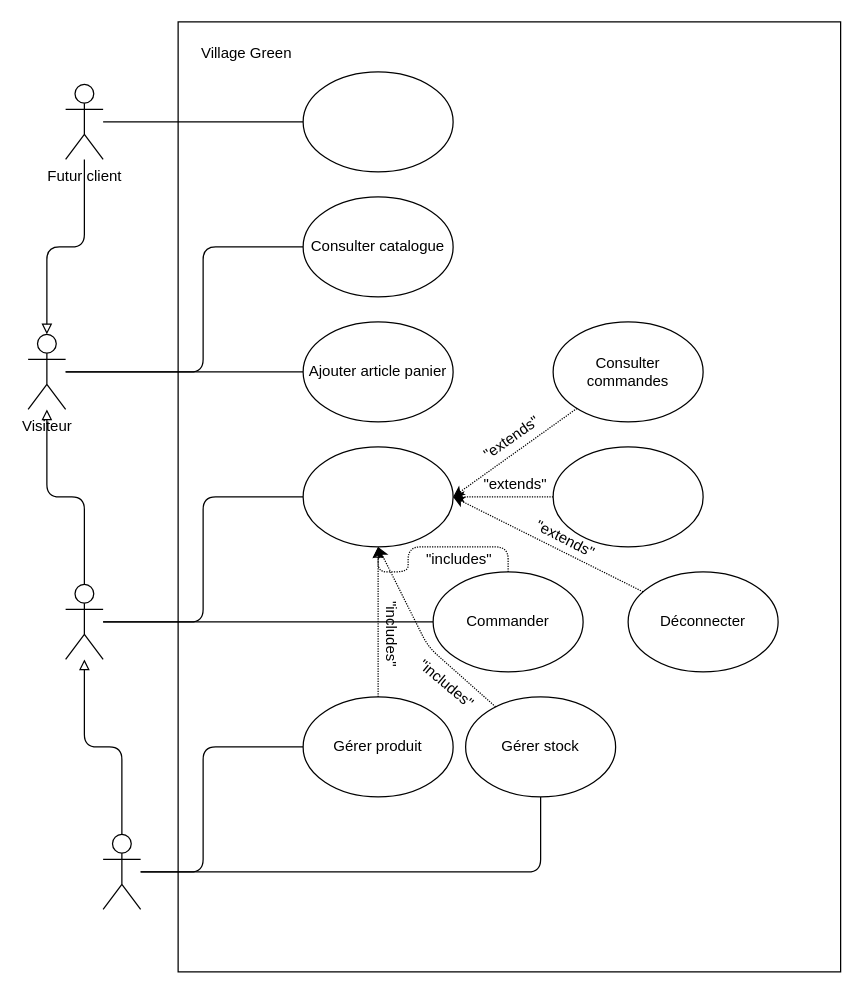
This 863x994 diagram has some shape labels left out. Each missing label, with the box of its shape:
Client: (64, 583, 103, 659)
Créer compte: (302, 71, 453, 172)
Gestion: (102, 833, 141, 909)
Modifier profil: (552, 446, 703, 547)
S'identifier: (302, 446, 453, 547)
